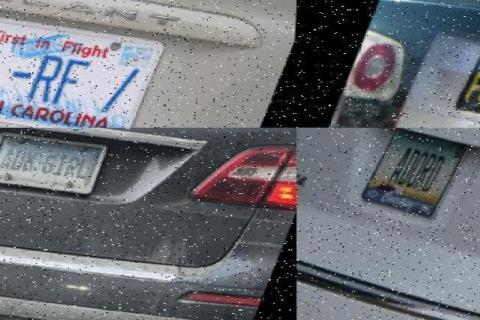LicensePlate: (0, 7, 166, 128), (361, 129, 467, 220), (0, 131, 110, 196), (452, 47, 480, 128)
